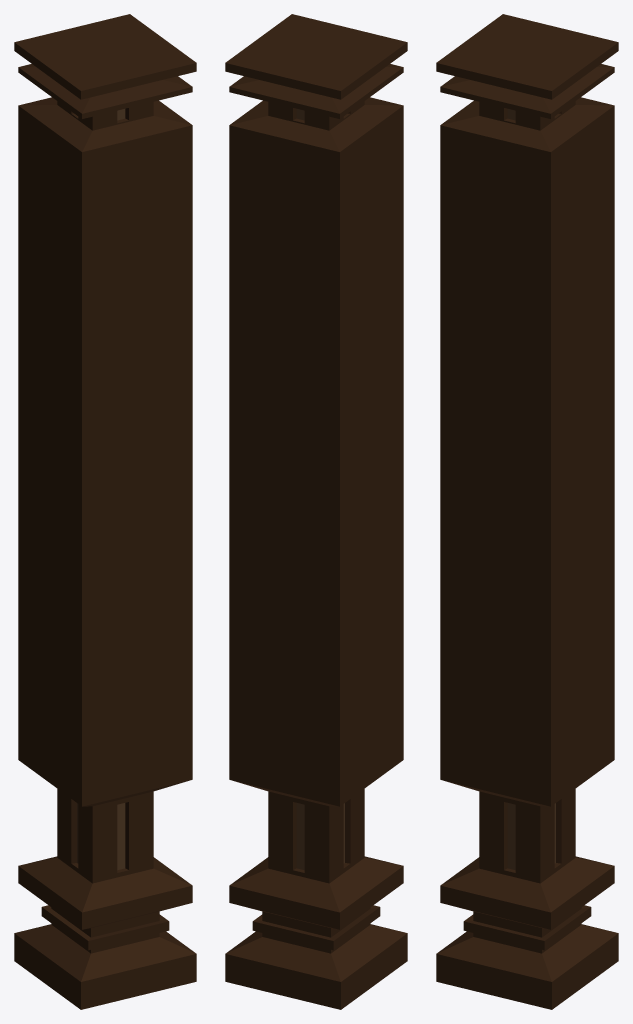
The model's file is 1pedestal.glb.
3 views of the same model, side by side, from view 1: azimuth 30°, elevation 25°; view 2: azimuth 150°, elevation 25°; view 3: azimuth 330°, elevation 25° (orthographic).
Parts seen in each view (by area): view 1: mesita.001; view 2: mesita.001; view 3: mesita.001.
Boxes of the visible parts, box(x1,y1,x2,y2) form: mesita.001: box(14, 14, 196, 1009); mesita.001: box(225, 14, 407, 1009); mesita.001: box(436, 14, 618, 1009).
Size of the model in its own units: 0.1545 by 1.17 by 0.1545.
